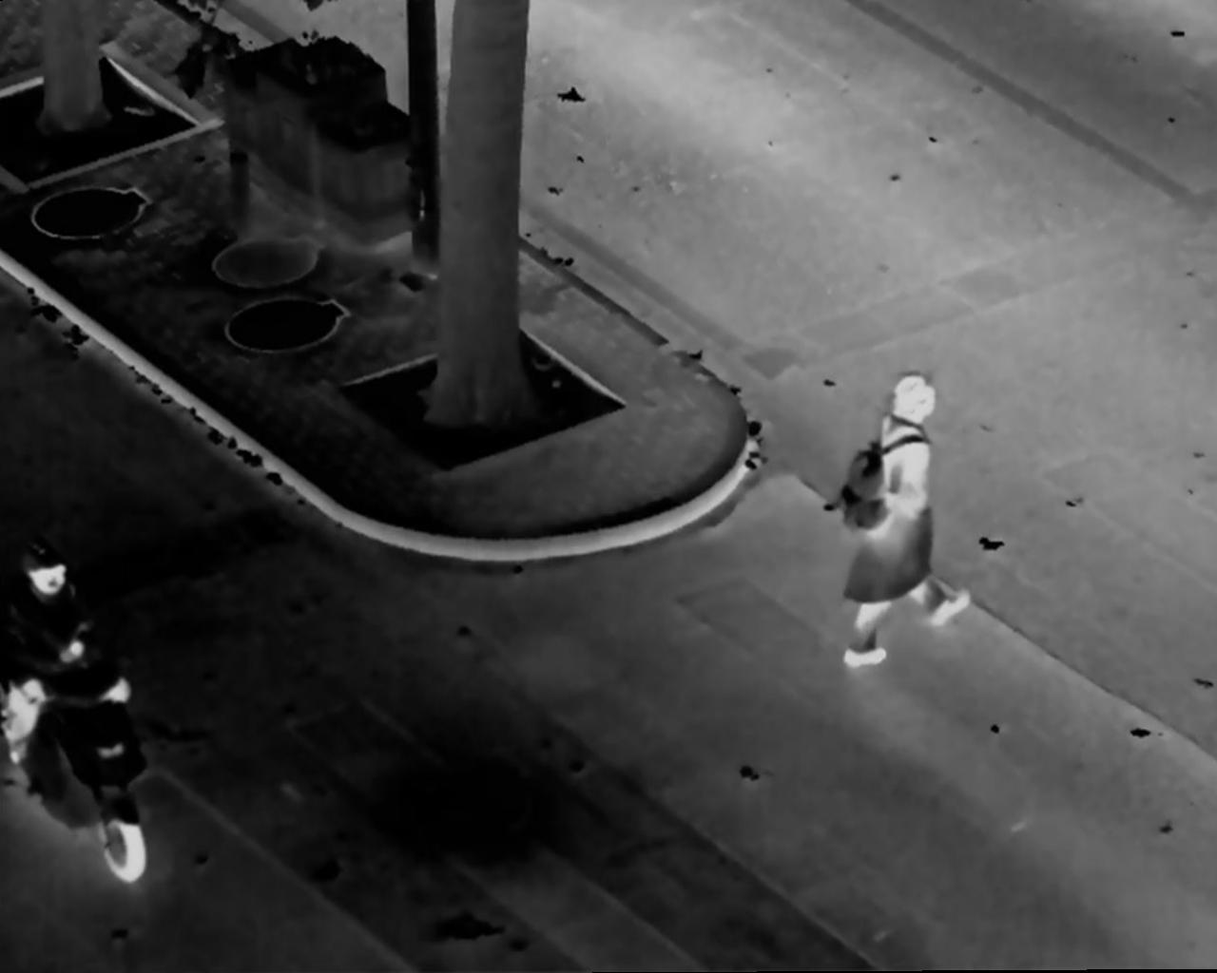person: (840, 373, 982, 669), (4, 542, 146, 830)
